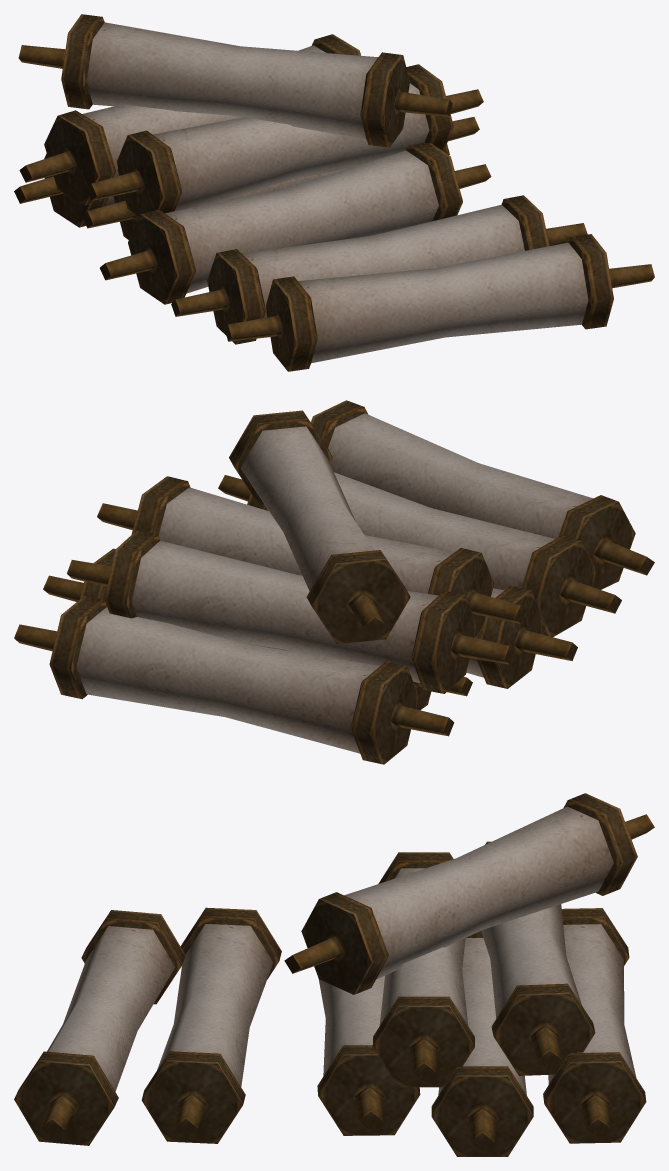
Rendered from Scrolls_01.fbx.
3 renders of one model, top to bottom at view 1: azimuth 30°, elevation 25°; view 2: azimuth 150°, elevation 25°; view 3: azimuth 270°, elevation 25°, orthographic. The views are drawn at different scales.
Visible parts, largest first — view 1: Scrolls_01; view 2: Scrolls_01; view 3: Scrolls_01.
Boxes of the visible parts, bbox=[...] form: Scrolls_01: bbox=[14, 14, 654, 371]; Scrolls_01: bbox=[14, 400, 654, 764]; Scrolls_01: bbox=[14, 793, 654, 1156].
Bounding box in the file's own units: 0.7487 × 0.8714 × 0.2976.
